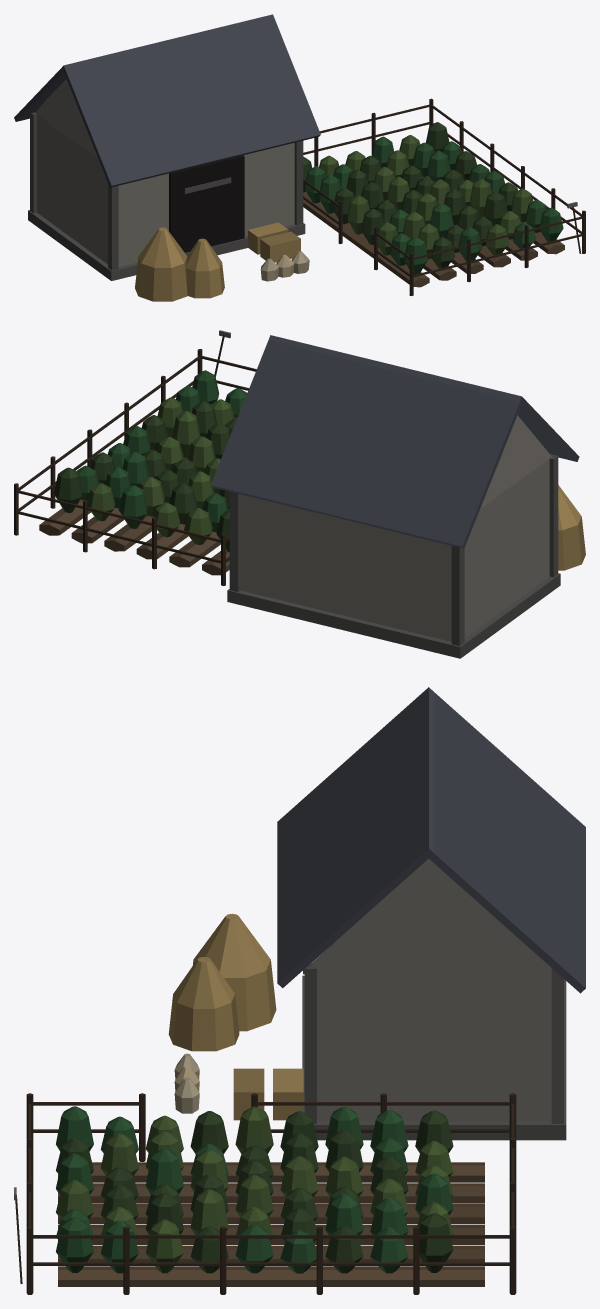
File: walk_freehold_plantation.glb
3 views of the same model, one above another, from view 1: azimuth 30°, elevation 25°; view 2: azimuth 150°, elevation 25°; view 3: azimuth 270°, elevation 25° (orthographic). The views are drawn at different scales.
Visible parts, largest first — view 1: walk_freehold_plantation, walk_freehold_plantation_roof; view 2: walk_freehold_plantation, walk_freehold_plantation_roof; view 3: walk_freehold_plantation, walk_freehold_plantation_roof.
Part boxes in pixels (x1=…): walk_freehold_plantation: x1=28, y1=79, x2=585, y2=301; walk_freehold_plantation_roof: x1=14, y1=14, x2=320, y2=187; walk_freehold_plantation: x1=14, y1=330, x2=585, y2=658; walk_freehold_plantation_roof: x1=211, y1=335, x2=579, y2=548; walk_freehold_plantation: x1=14, y1=858, x2=566, y2=1294; walk_freehold_plantation_roof: x1=277, y1=687, x2=585, y2=993.
Size of what is drawn, in the model's own units: 12.85 by 6.04 by 10.18.
Materials: 2 (2 with a texture image).
